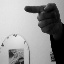g: (23, 2, 61, 35)
